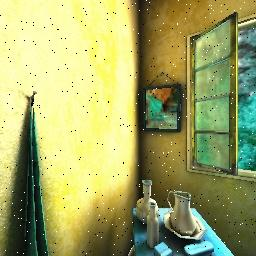table: (130, 192, 227, 256)
